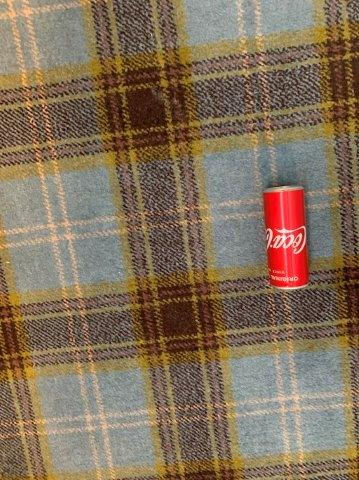kaleng: (263, 186, 309, 289)
